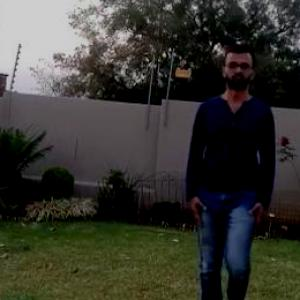follow: (188, 55, 269, 299)
